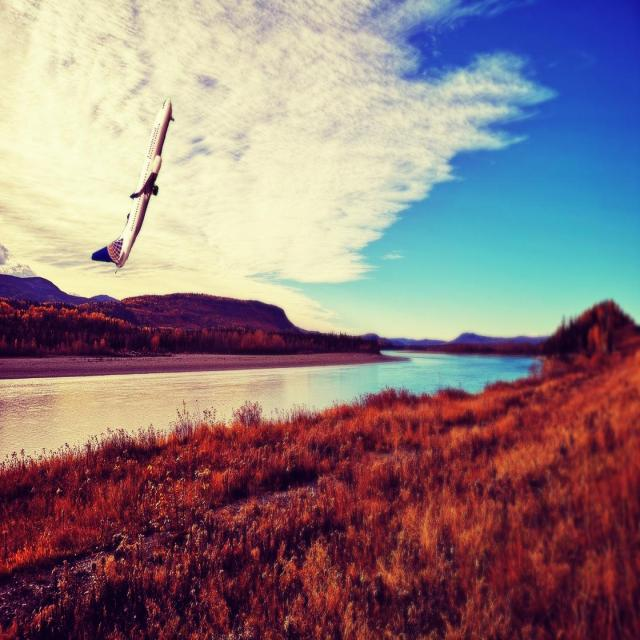airplane: (90, 97, 174, 273)
